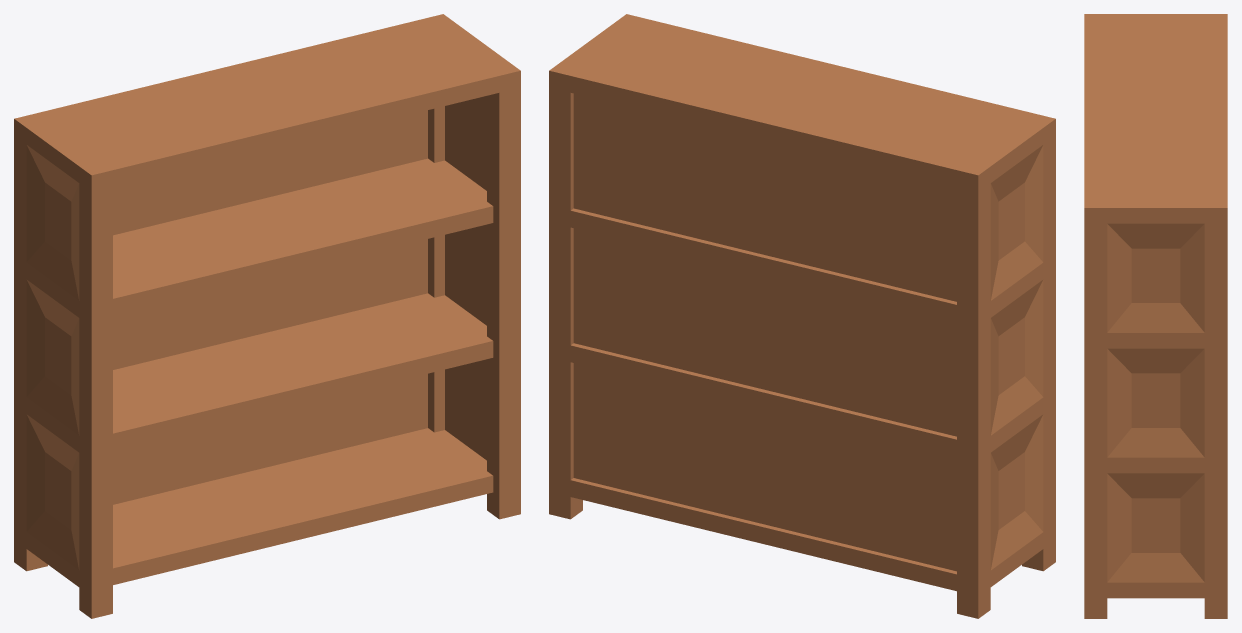
The model's file is furn_bookcaseClosedWide.glb.
The picture shows the model from 3 angles, left to right: view 1: azimuth 30°, elevation 25°; view 2: azimuth 150°, elevation 25°; view 3: azimuth 270°, elevation 25°; orthographic projection. The views are drawn at different scales.
Visible parts, largest first — view 1: bookcaseClosedWide(Clone); view 2: bookcaseClosedWide(Clone); view 3: bookcaseClosedWide(Clone).
Boxes of the visible parts, x1,y1,x2,y2 form: bookcaseClosedWide(Clone): (14,14,520,618); bookcaseClosedWide(Clone): (549,14,1055,618); bookcaseClosedWide(Clone): (1084,14,1227,618).
Size of the model in its own units: 0.8 by 0.79 by 0.25.
